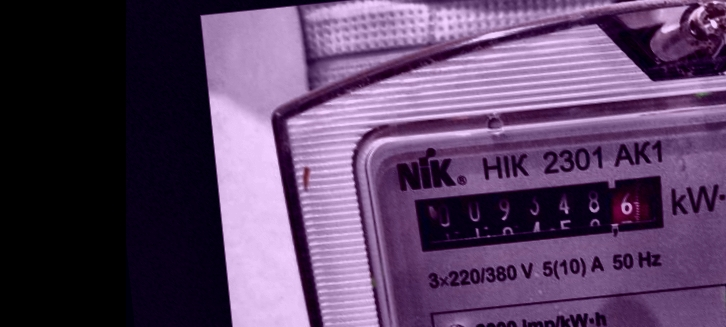0: (433, 203, 452, 231), (464, 197, 480, 225)
3: (525, 192, 541, 219)
4: (551, 187, 572, 219)
6: (615, 189, 635, 219)
8: (583, 187, 601, 216)
9: (495, 197, 512, 226)
screen: (394, 161, 679, 267)
